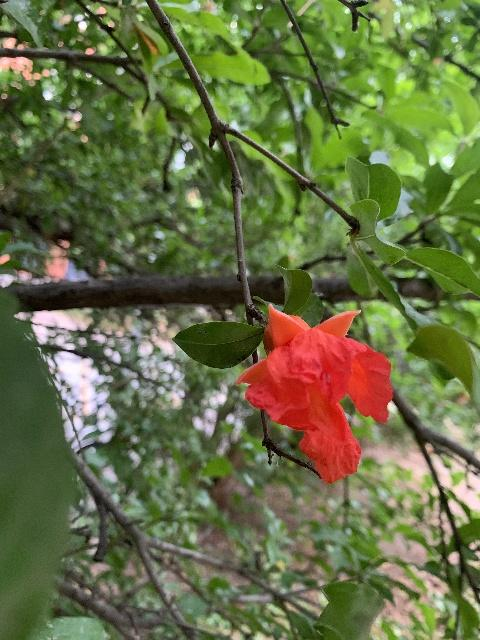flower: (235, 303, 393, 483)
